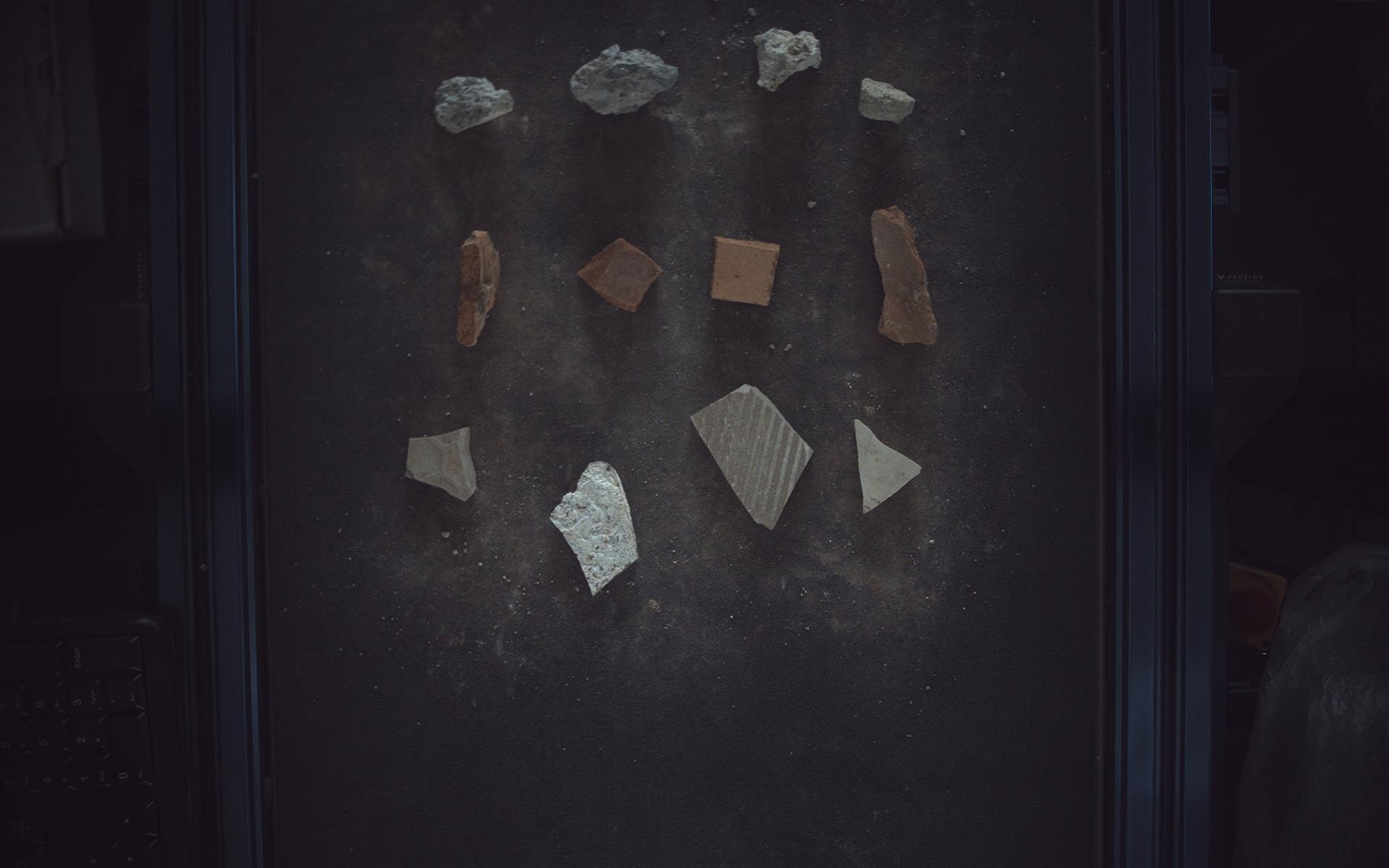brick: (873, 206, 939, 344), (578, 237, 664, 312), (456, 229, 501, 346), (713, 236, 781, 305)
concrete: (571, 43, 679, 114), (435, 75, 514, 132), (756, 27, 823, 90), (860, 77, 917, 122)
tile: (692, 384, 814, 529), (551, 461, 639, 595), (857, 420, 923, 514), (406, 428, 477, 501)
